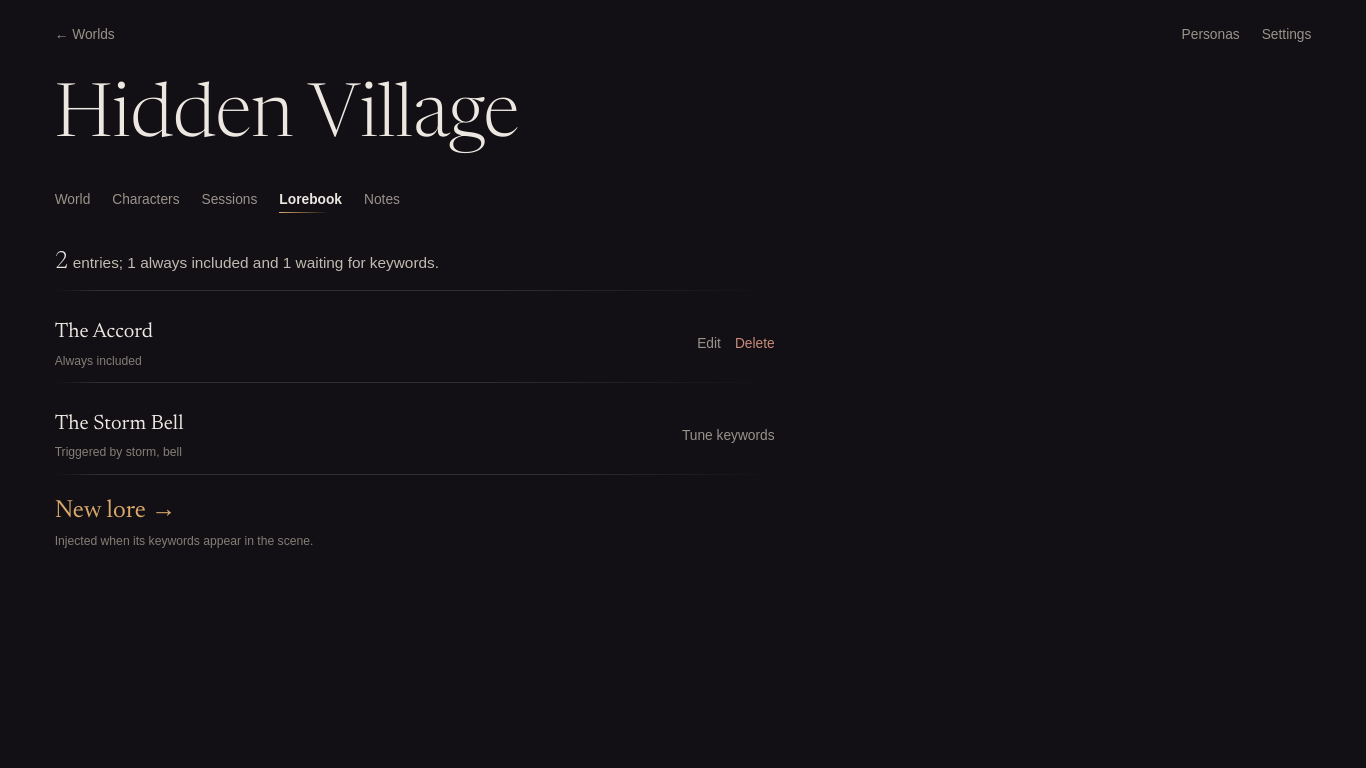
Test case: the lorebook › lets hub lore keep its text while its keywords stay tunable
Click the button "Tune keywords" at (728, 436), box x1=682 y1=427 x2=775 y2=444
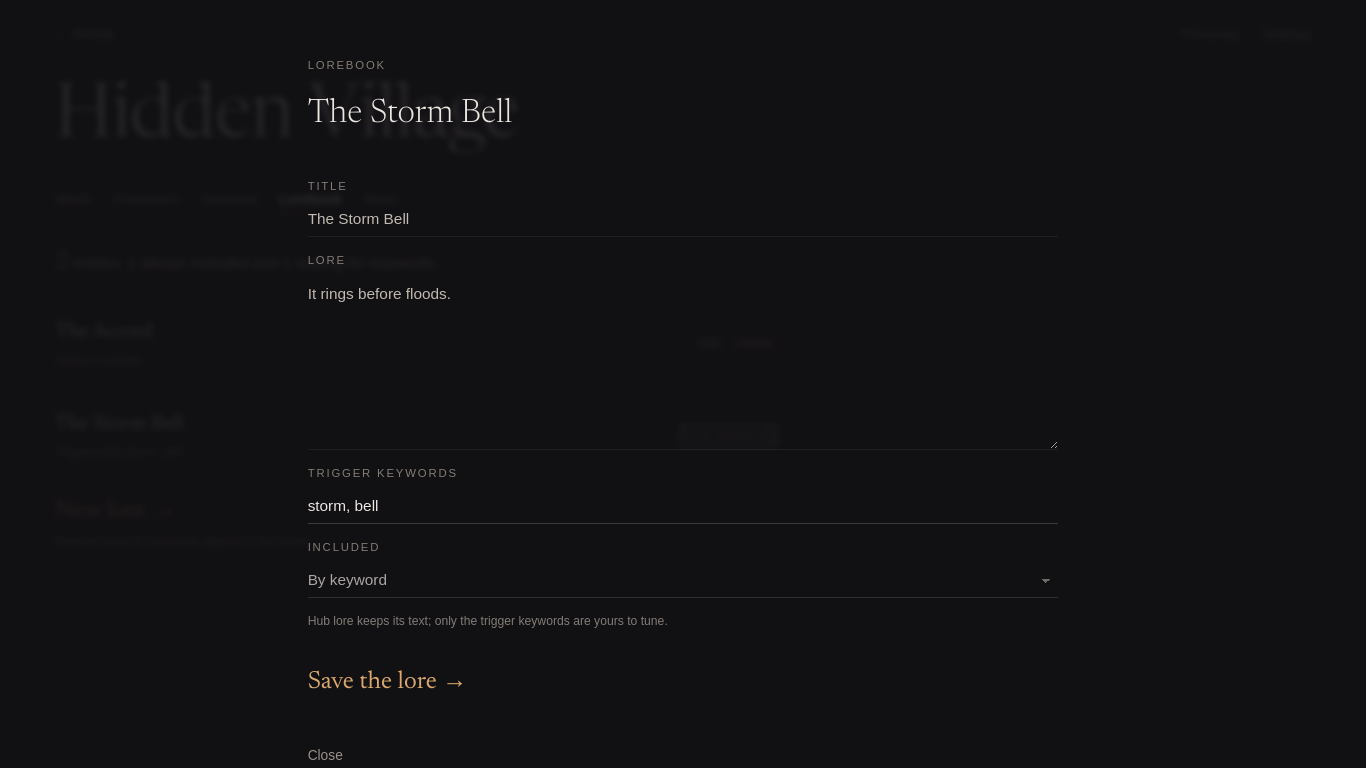
Expected: the text "Hub lore keeps its text; only the trigger keywords are yours to tune." is shown, x1=308 y1=614 x2=668 y2=628
